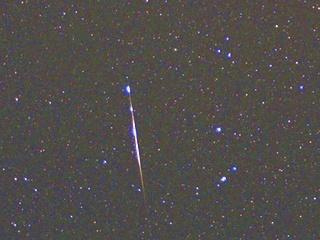meteorite: (119, 83, 153, 210)
